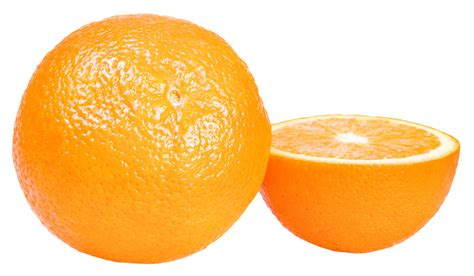orange: (11, 13, 275, 265)
